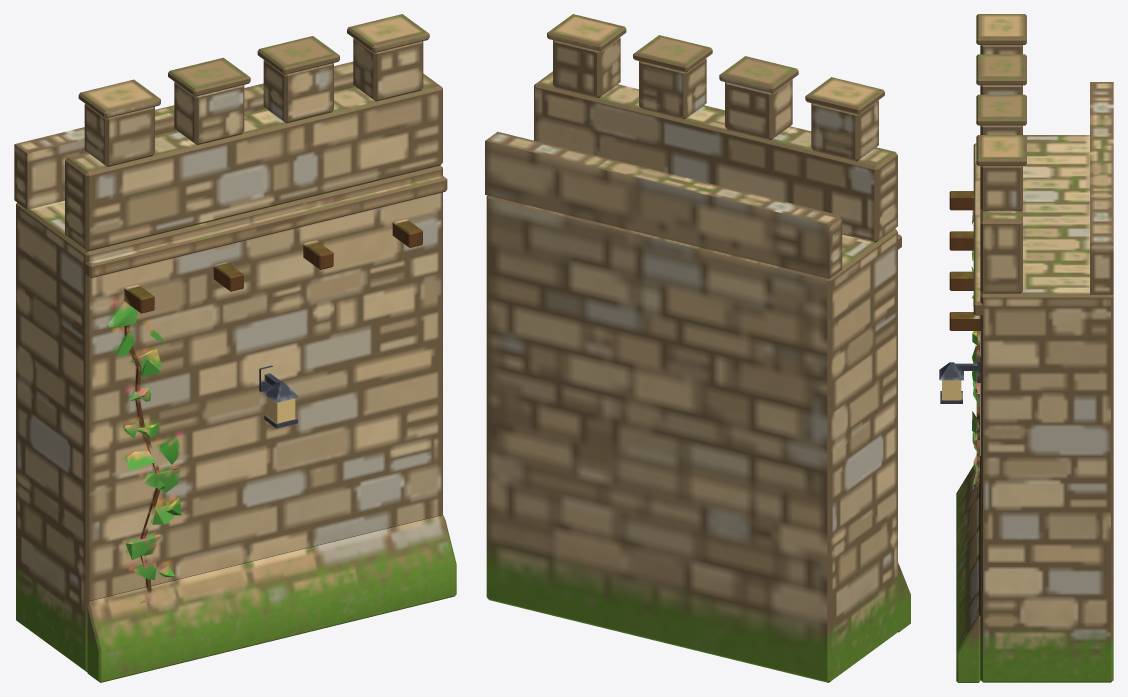
The model's file is Kit_Gate_Wall.fbx.
3 renders of one model, left to right at view 1: azimuth 30°, elevation 25°; view 2: azimuth 150°, elevation 25°; view 3: azimuth 270°, elevation 25°, orthographic. The views are drawn at different scales.
Visible parts, largest first — view 1: Kit_Gate_Wall_LOD0; view 2: Kit_Gate_Wall_LOD0; view 3: Kit_Gate_Wall_LOD0.
Boxes of the visible parts, x1,y1,x2,y2 form: Kit_Gate_Wall_LOD0: (14,14,456,682); Kit_Gate_Wall_LOD0: (485,14,910,682); Kit_Gate_Wall_LOD0: (939,14,1113,682).
Size of what is drawn, in the model's own units: 4 by 5.98 by 1.83.
1 material, 1 textured.
